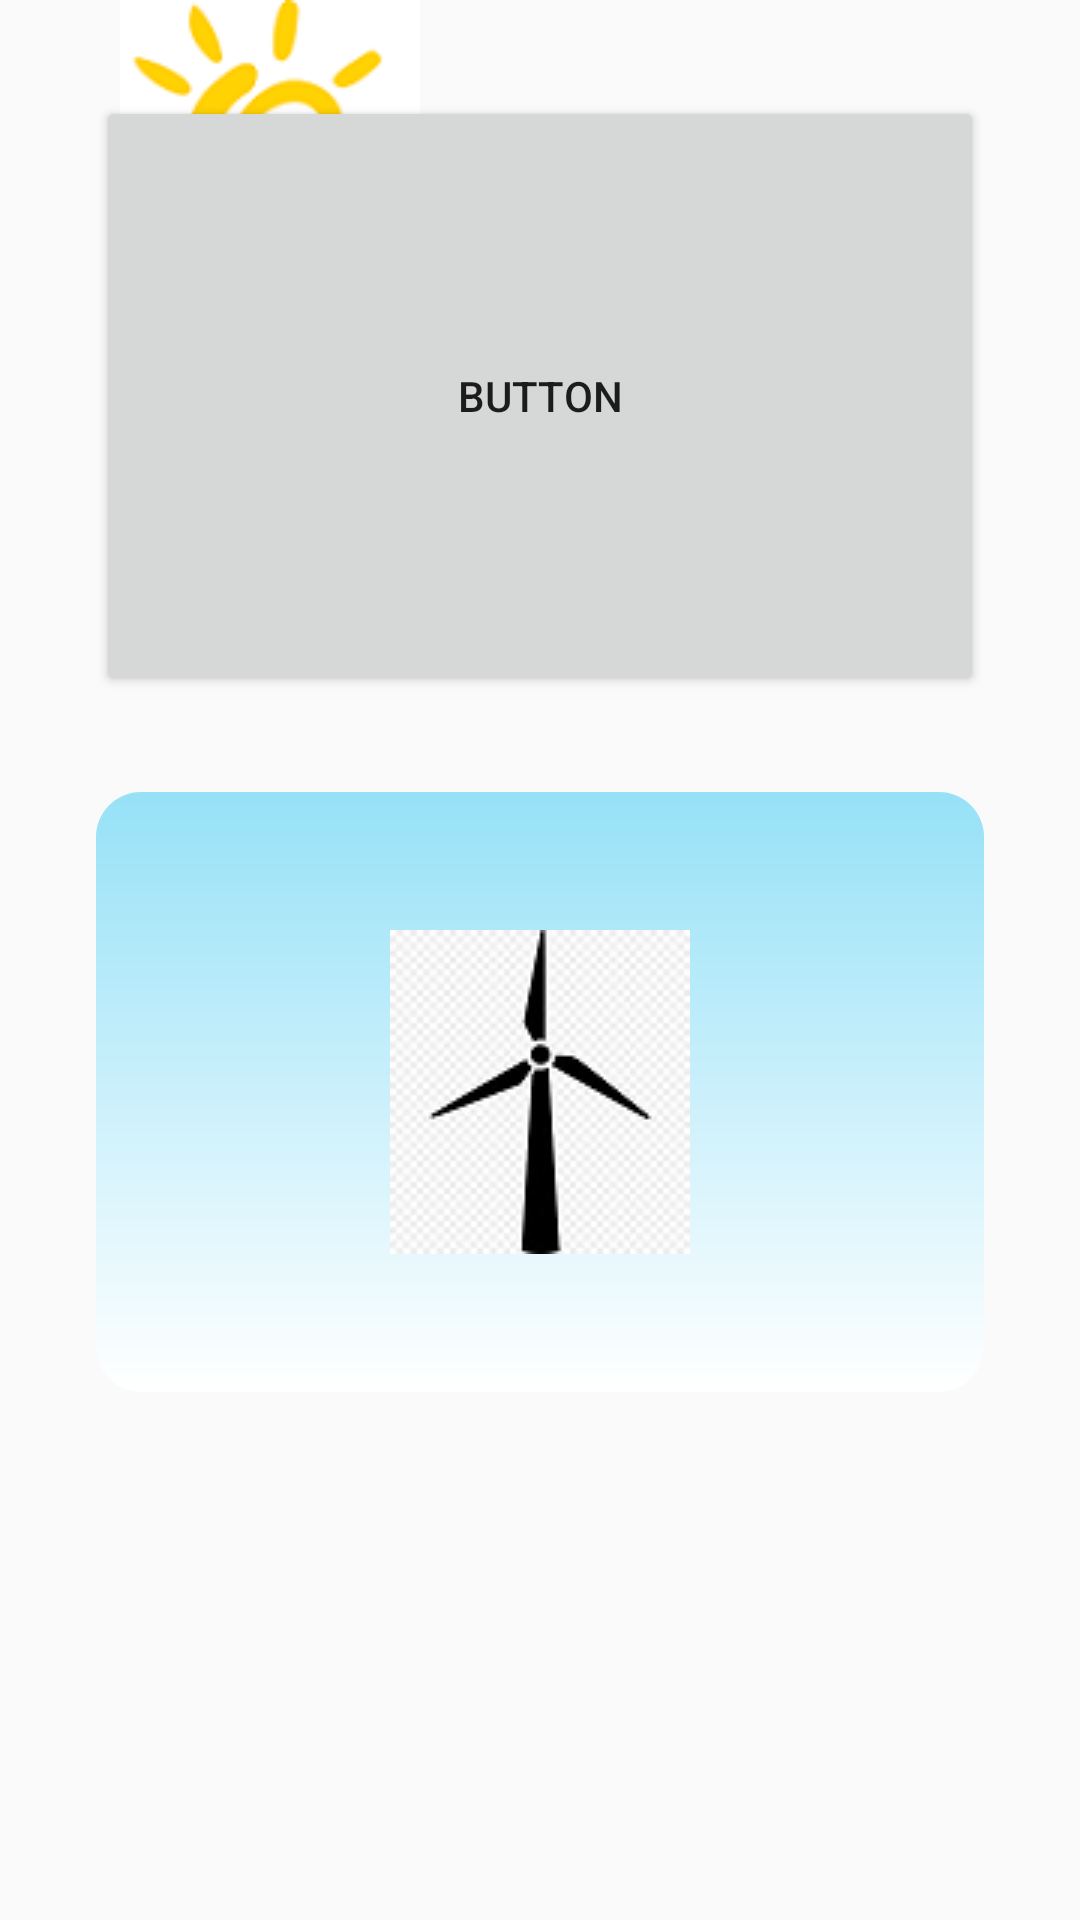

Locate icon controls on the screen. Image size 1080 x 1920, boxes as (x1, y1, x2, y2).
solar: (120, 0, 420, 114)
